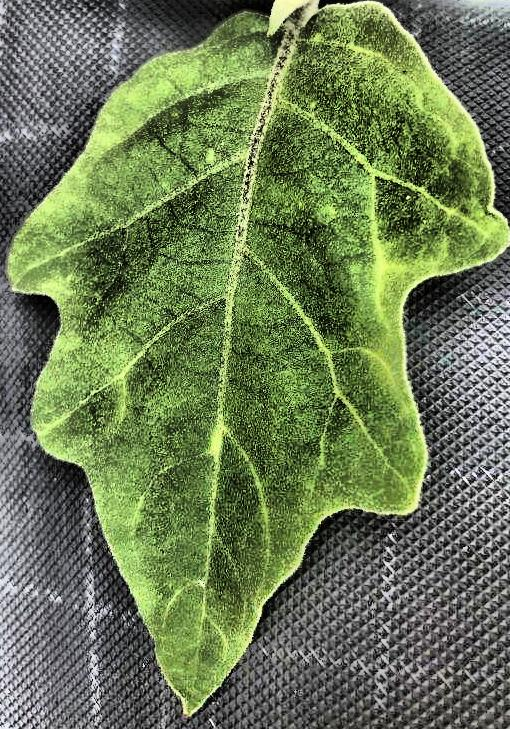HEALTHY: (1, 0, 510, 729)
